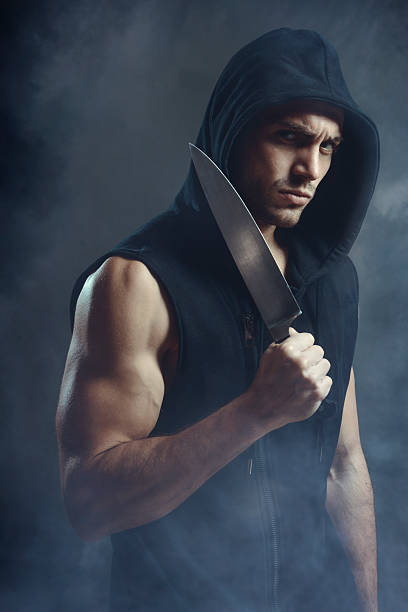knife: (184, 139, 305, 343)
